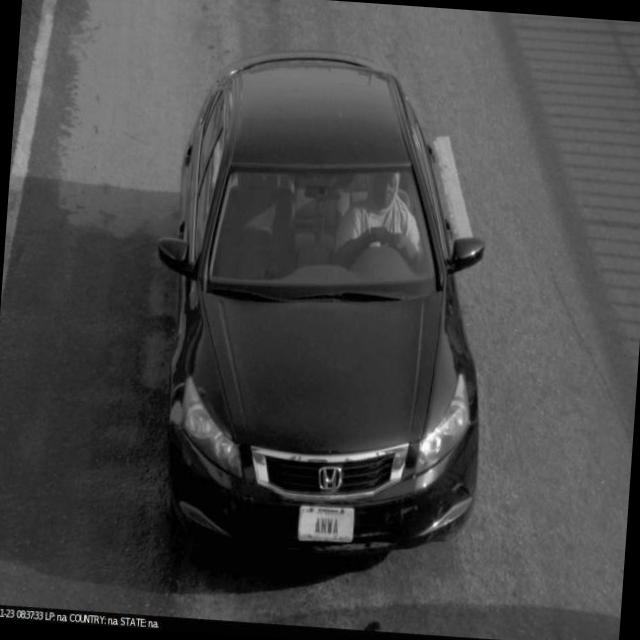person_without_seatbelt: (324, 172, 433, 284)
